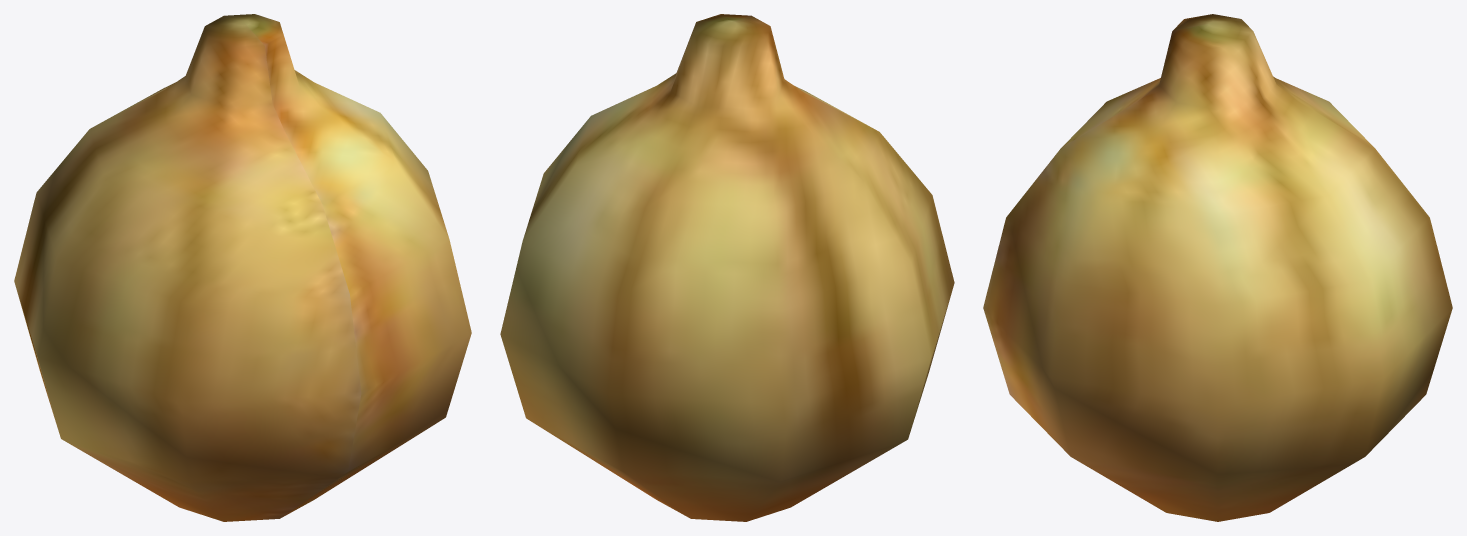
File: SM_onion_00.gltf
The picture shows the model from 3 angles, left to right: view 1: azimuth 30°, elevation 25°; view 2: azimuth 150°, elevation 25°; view 3: azimuth 270°, elevation 25°; orthographic projection.
Visible parts, largest first — view 1: SM_onion_00; view 2: SM_onion_00; view 3: SM_onion_00.
Part boxes in pixels (x1,y1,x2,y2): SM_onion_00: (14,14,471,521); SM_onion_00: (500,14,954,521); SM_onion_00: (983,14,1452,521).
Size of the model in its own units: 0.155 by 0.1777 by 0.155.
1 material, 1 textured.
